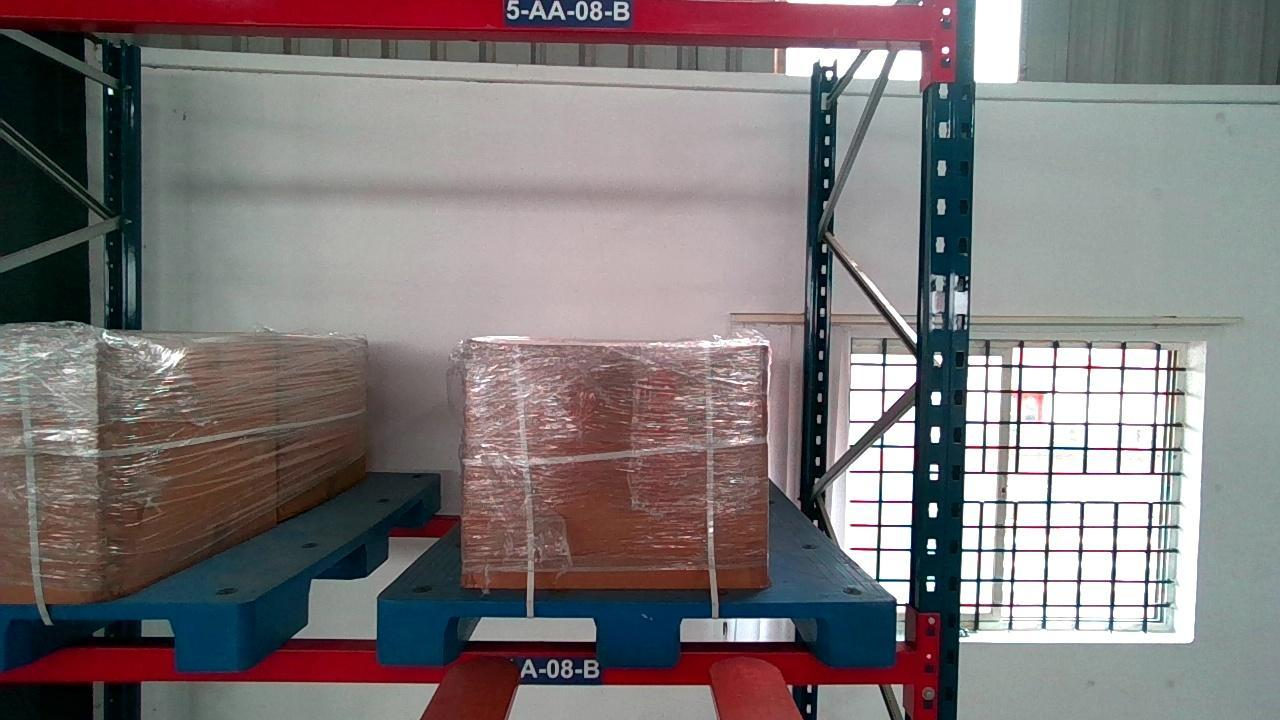h_rack: (0, 3, 928, 41), (0, 645, 913, 679)
small_pallet: (376, 598, 897, 662), (3, 603, 242, 673)
